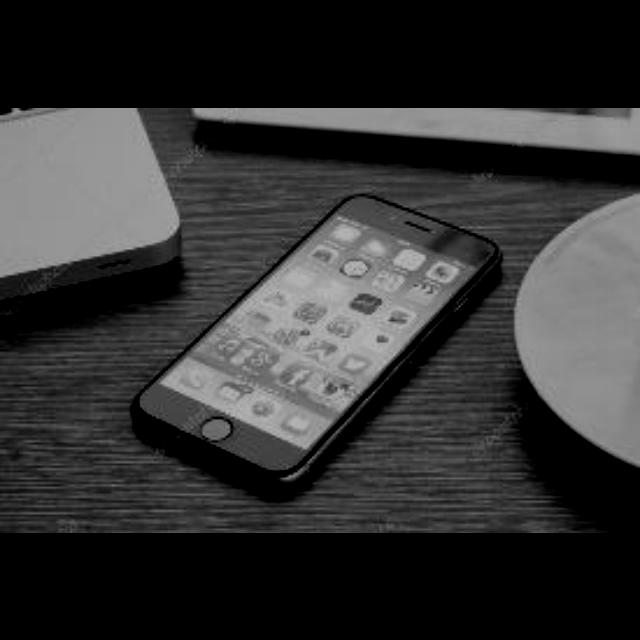fake: (0, 95, 640, 521)
